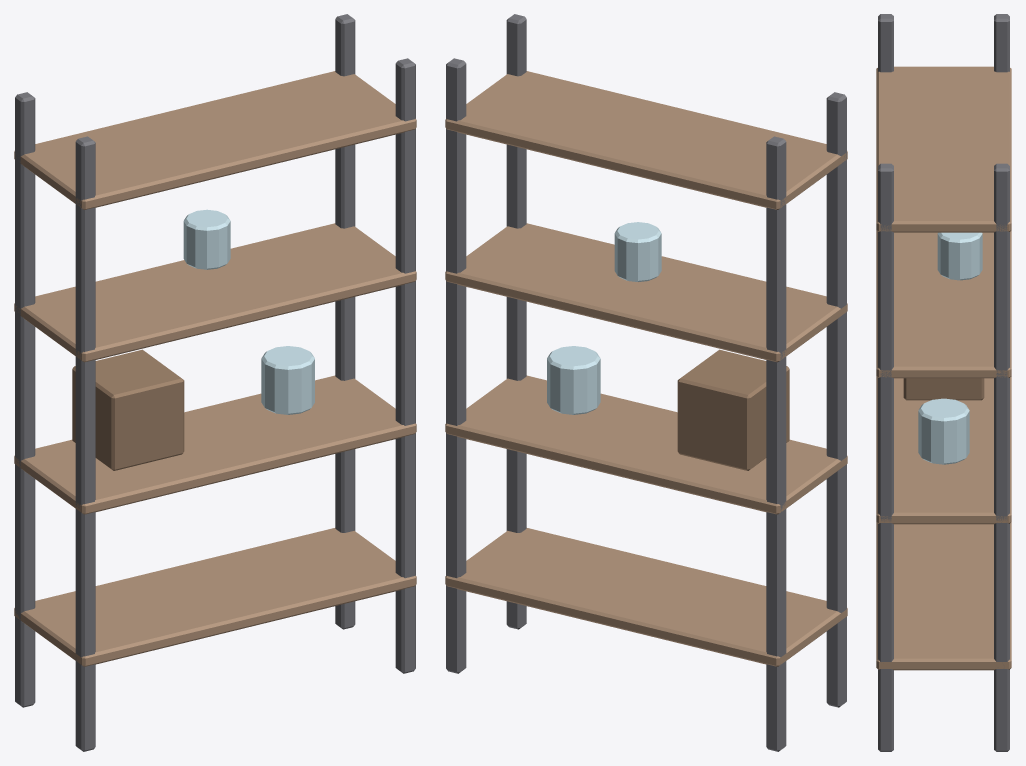
File: SM_Shelving_Unit_Cave.fbx
The picture shows the model from 3 angles, left to right: view 1: azimuth 30°, elevation 25°; view 2: azimuth 150°, elevation 25°; view 3: azimuth 270°, elevation 25°; orthographic projection. The views are drawn at different scales.
Visible parts, largest first — view 1: Shelving_Unit_Cave; view 2: Shelving_Unit_Cave; view 3: Shelving_Unit_Cave.
Boxes of the visible parts, <box> form: Shelving_Unit_Cave: <box>14,14,416,751</box>; Shelving_Unit_Cave: <box>445,14,847,751</box>; Shelving_Unit_Cave: <box>876,14,1011,751</box>.
Bounding box in the file's own units: 115 × 200 × 42.
